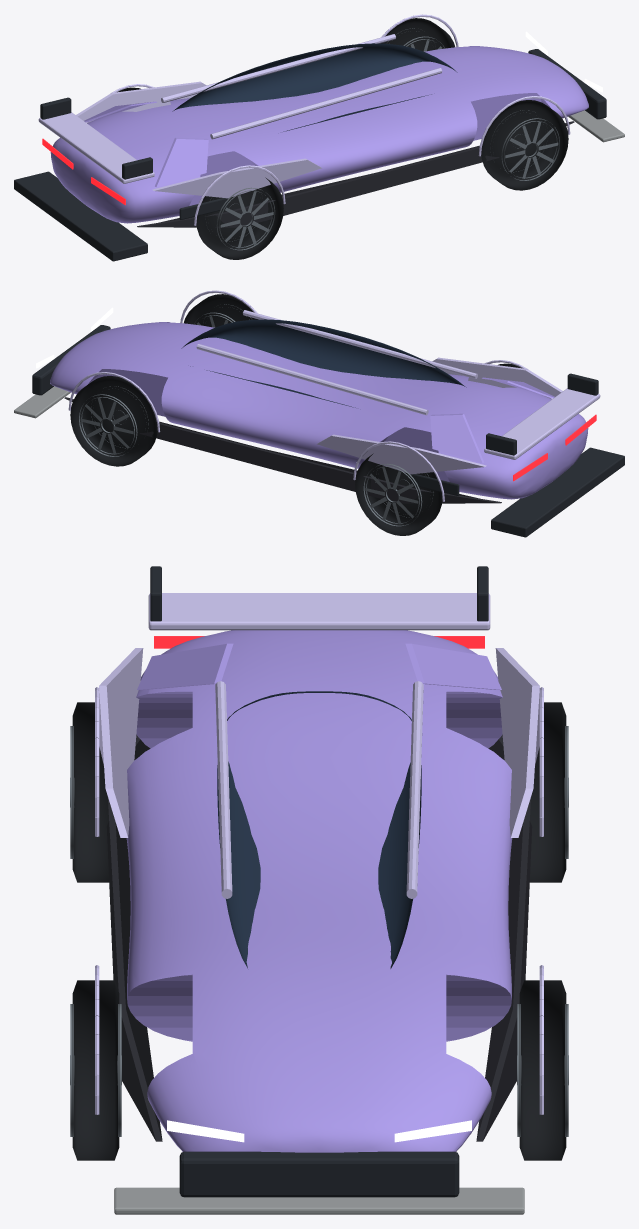
The model's file is vesper-original.glb.
The picture shows the model from 3 angles, top to bottom: view 1: azimuth 30°, elevation 25°; view 2: azimuth 150°, elevation 25°; view 3: azimuth 270°, elevation 25°; orthographic projection. The views are drawn at different scales.
Visible parts, largest first — view 1: Body, WheelFrontRight, WheelRearRight, WheelFrontLeft; view 2: Body, WheelFrontLeft, WheelRearLeft, WheelFrontRight; view 3: Body, WheelFrontLeft, WheelFrontRight, WheelRearLeft, WheelRearRight.
Boxes of the visible parts, left/top/right/bottom form: Body: left=14, top=14, right=624, bottom=261; WheelFrontRight: left=481, top=100, right=568, bottom=190; WheelRearRight: left=196, top=177, right=283, bottom=259; WheelFrontLeft: left=380, top=18, right=454, bottom=51; Body: left=14, top=290, right=624, bottom=537; WheelFrontLeft: left=70, top=376, right=157, bottom=466; WheelRearLeft: left=355, top=453, right=442, bottom=535; WheelFrontRight: left=184, top=294, right=258, bottom=327; Body: left=95, top=566, right=543, bottom=1214; WheelFrontLeft: left=517, top=980, right=568, bottom=1160; WheelFrontRight: left=70, top=980, right=121, bottom=1160; WheelRearLeft: left=529, top=702, right=568, bottom=882; WheelRearRight: left=70, top=702, right=109, bottom=882.
Bounding box in the file's own units: 5.49 × 1.23 × 2.34.
